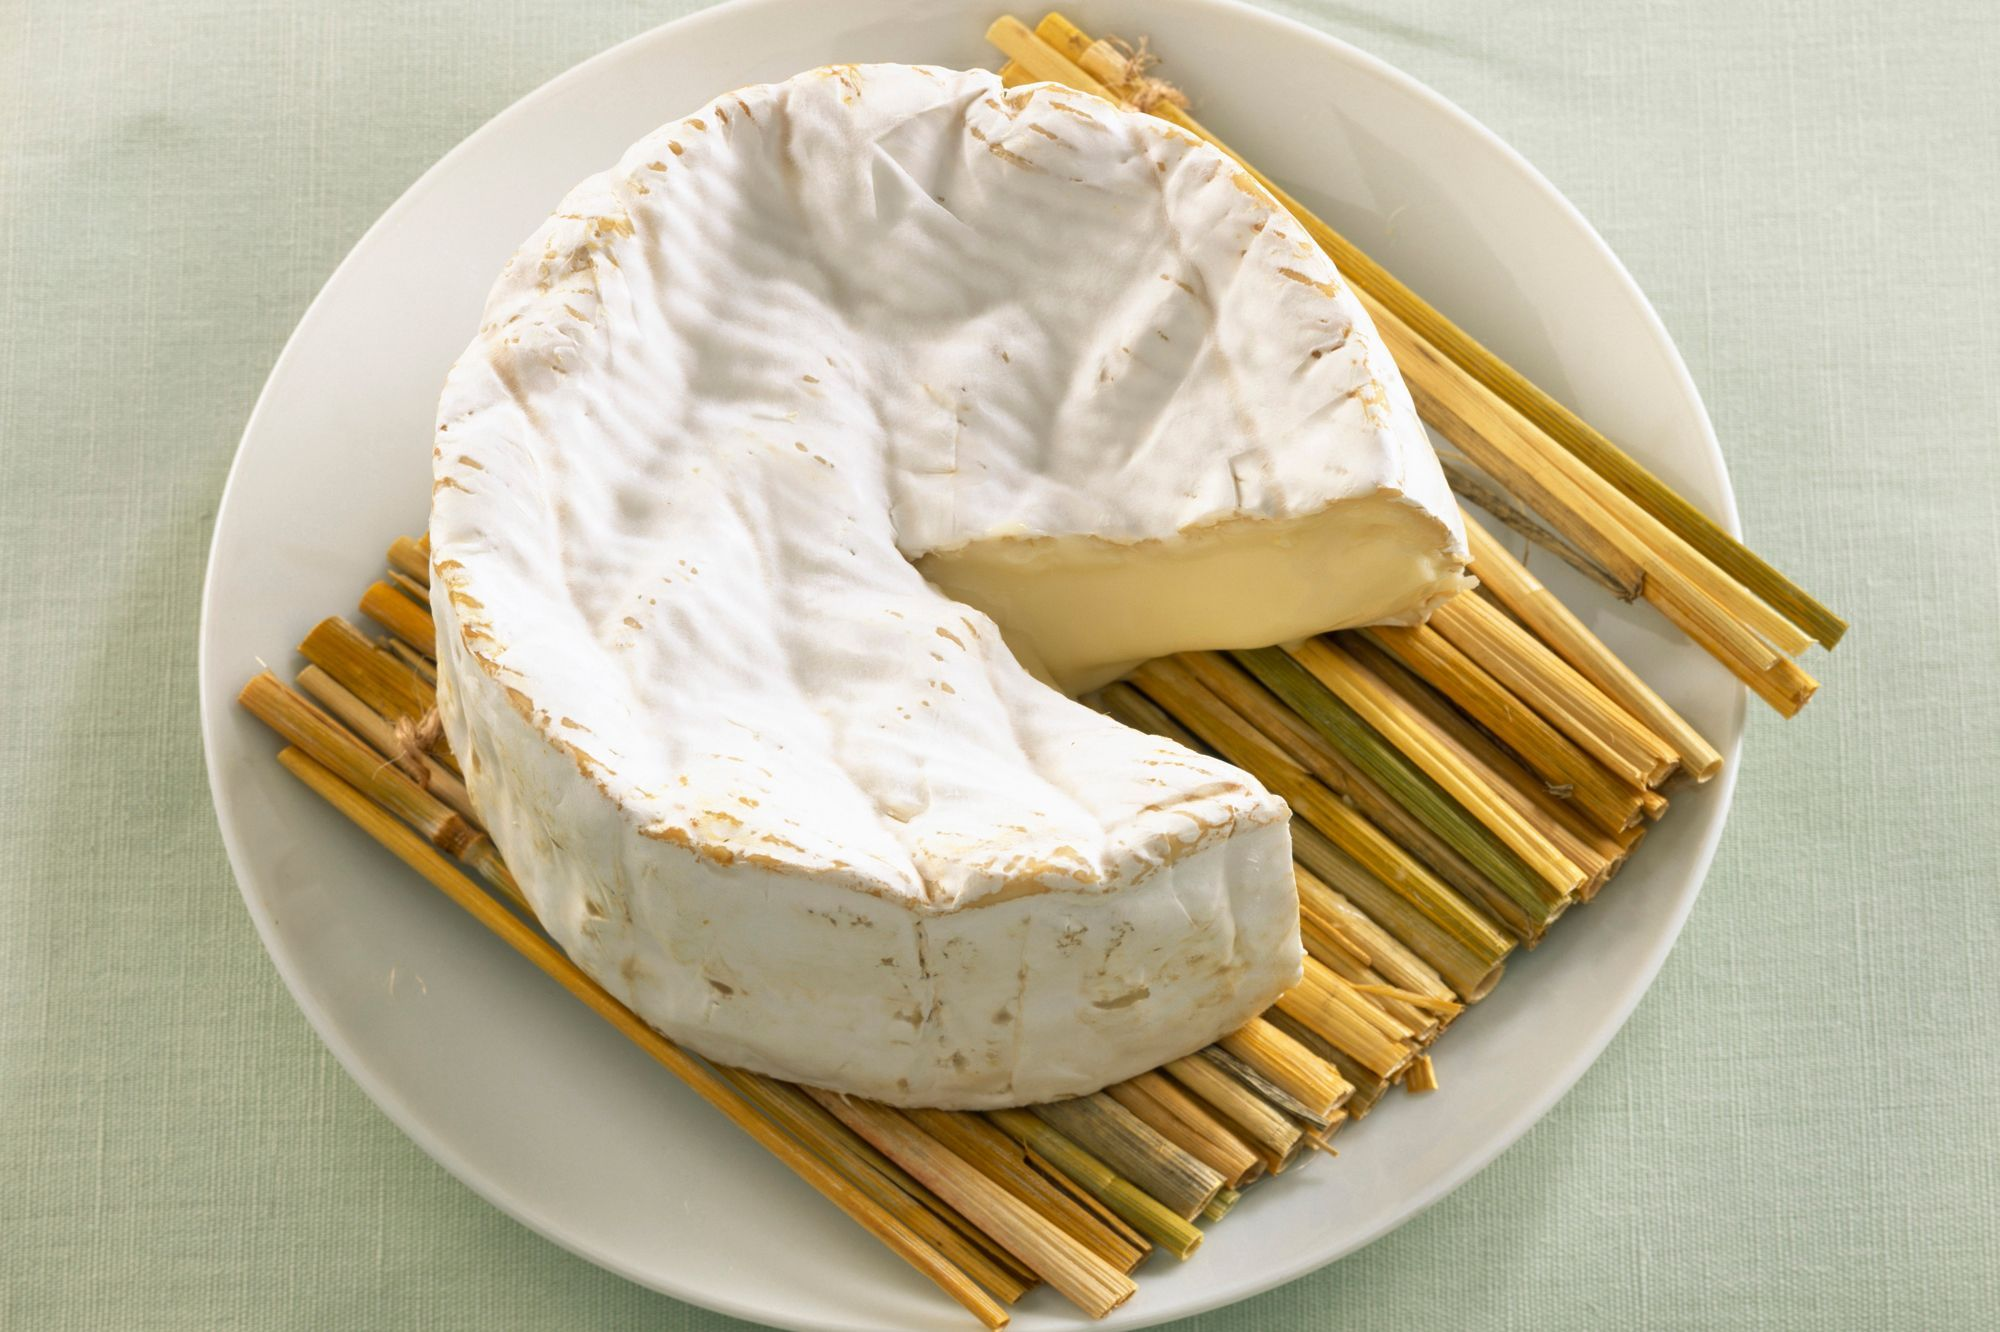camembert: (418, 62, 1483, 1125)
